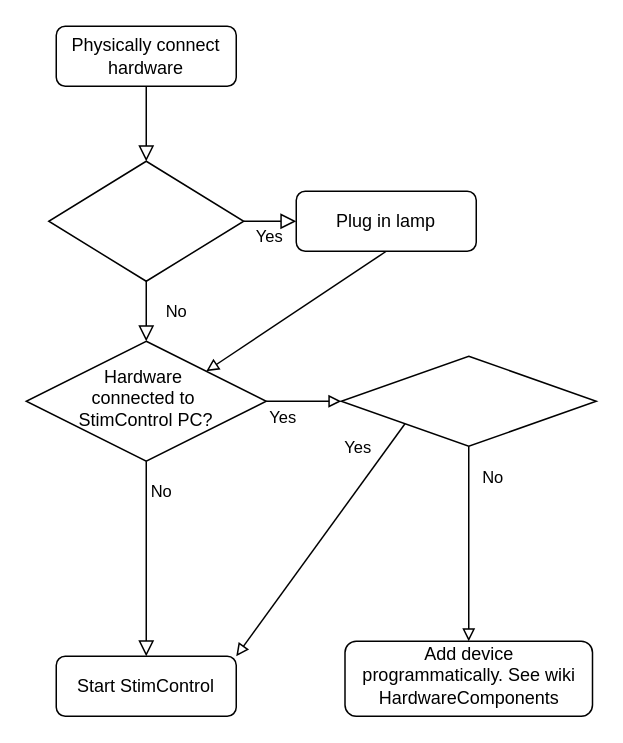
Image size: 623x743. Some labels were removed from this diagram. Here are the shapes that lost their labels. From the top down, the centre of each, then its label:
At (x=145, y=220): "Hardware connected to DAQ?".
At (x=468, y=400): "Device supported?".
